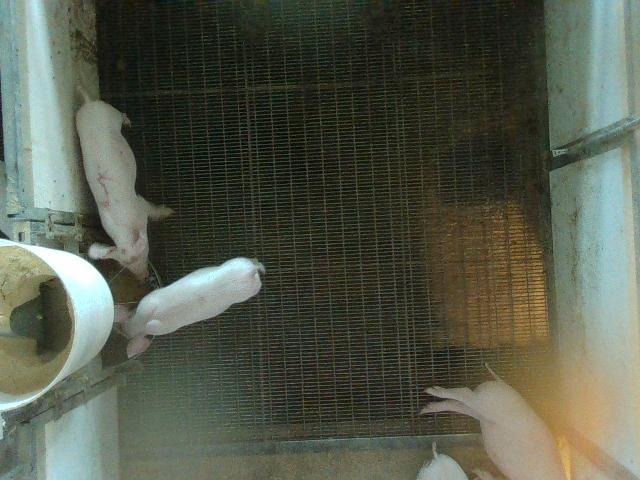pig-5: (76, 95, 172, 281)
